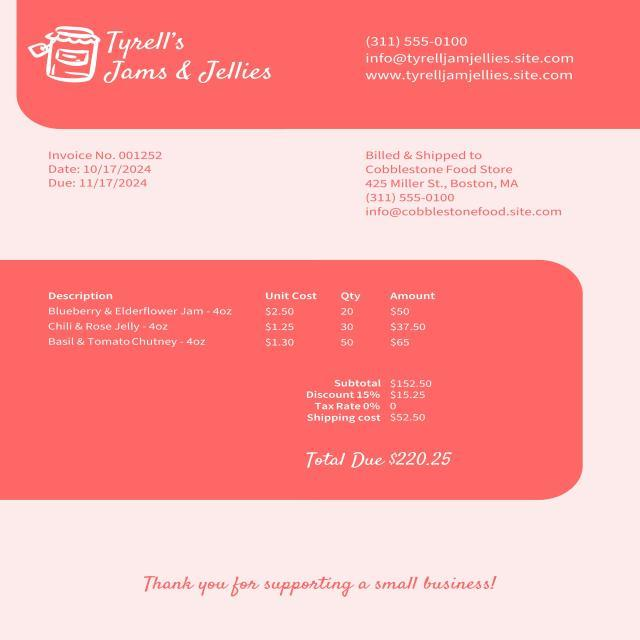ROI: (40, 282, 444, 356), (359, 144, 567, 223), (298, 374, 458, 476), (359, 28, 585, 86), (139, 569, 501, 601), (100, 25, 275, 85), (43, 145, 170, 193)
